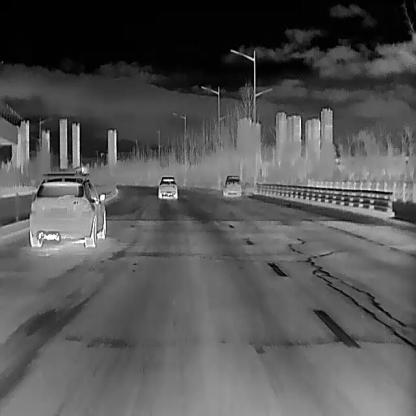car: (28, 174, 105, 247), (157, 175, 177, 199), (222, 174, 240, 197)
